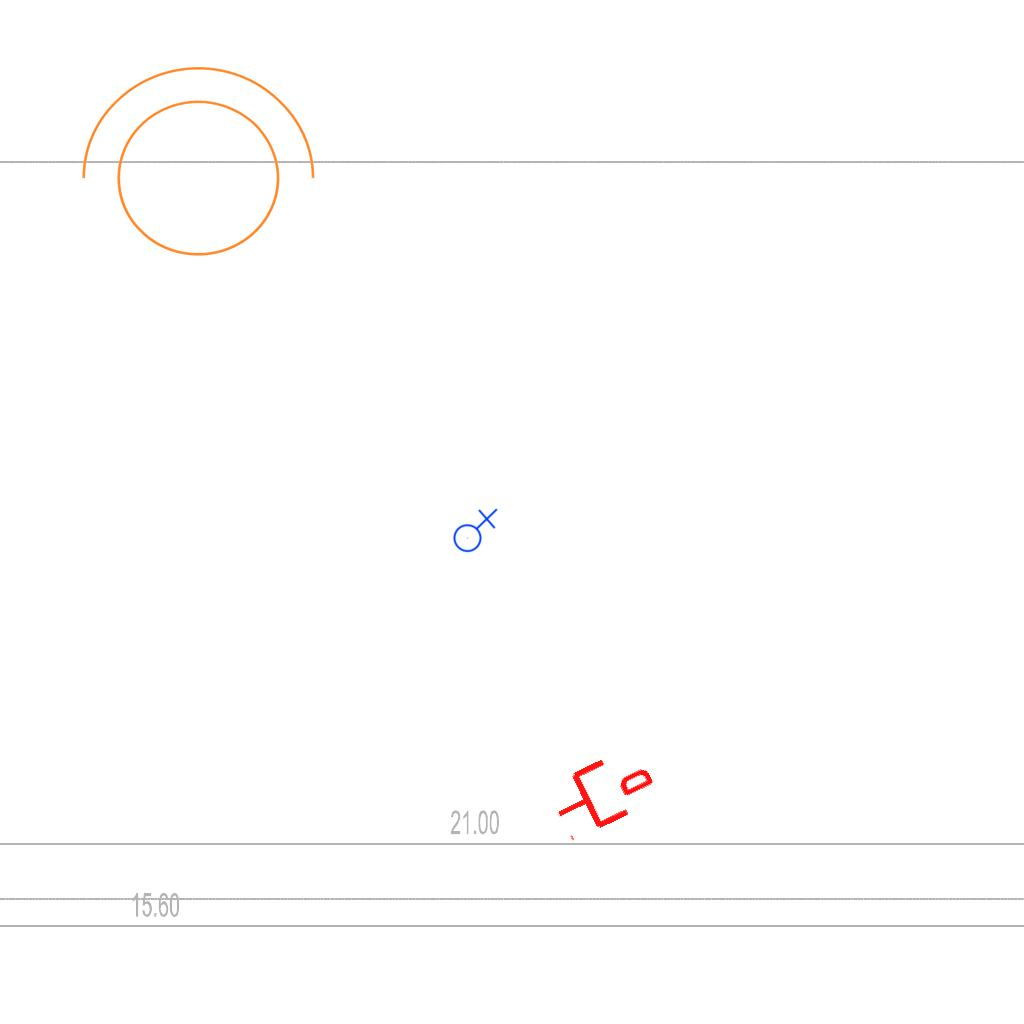Datenanschluss_einfach: (542, 740, 663, 846)
Elektroanschluss_allgemein_230V_Geraeteanschlussdose_230V: (449, 506, 498, 553)
Scheinwerfer_fuer_Alarmbeleuchtung: (60, 56, 324, 281)
